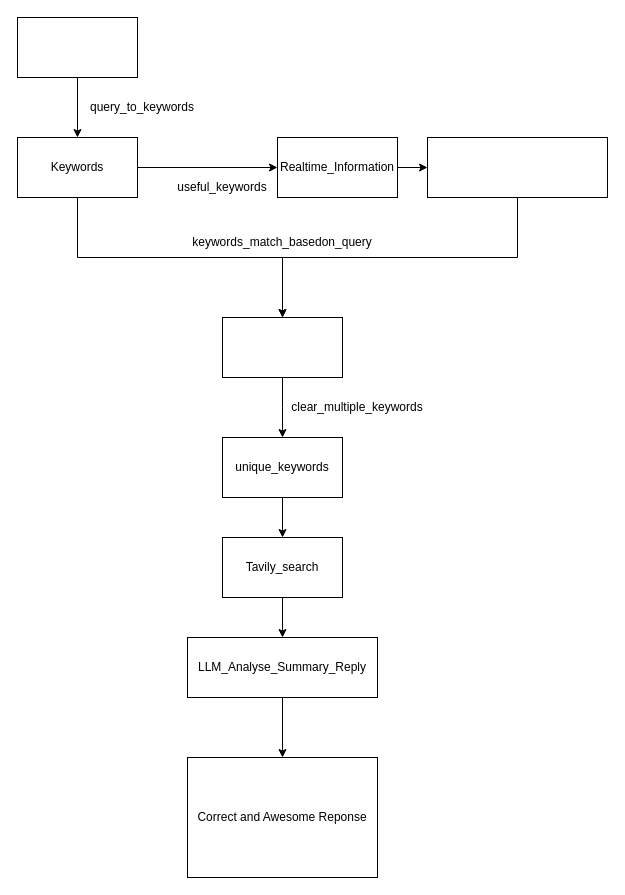
The diagram is 625 pixels wide and 895 high, and some of its shapes have lost their labels. The box of each missing label's shape, as (x1, y1, x2, y2) in pixels:
final_keywords: (222, 316, 342, 378)
Query: (16, 16, 138, 78)
Realtime_Information_keywords: (426, 136, 608, 198)
